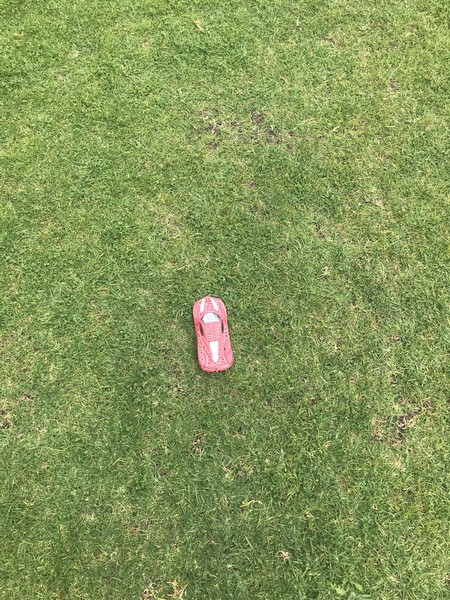RC: (191, 296, 236, 374)
